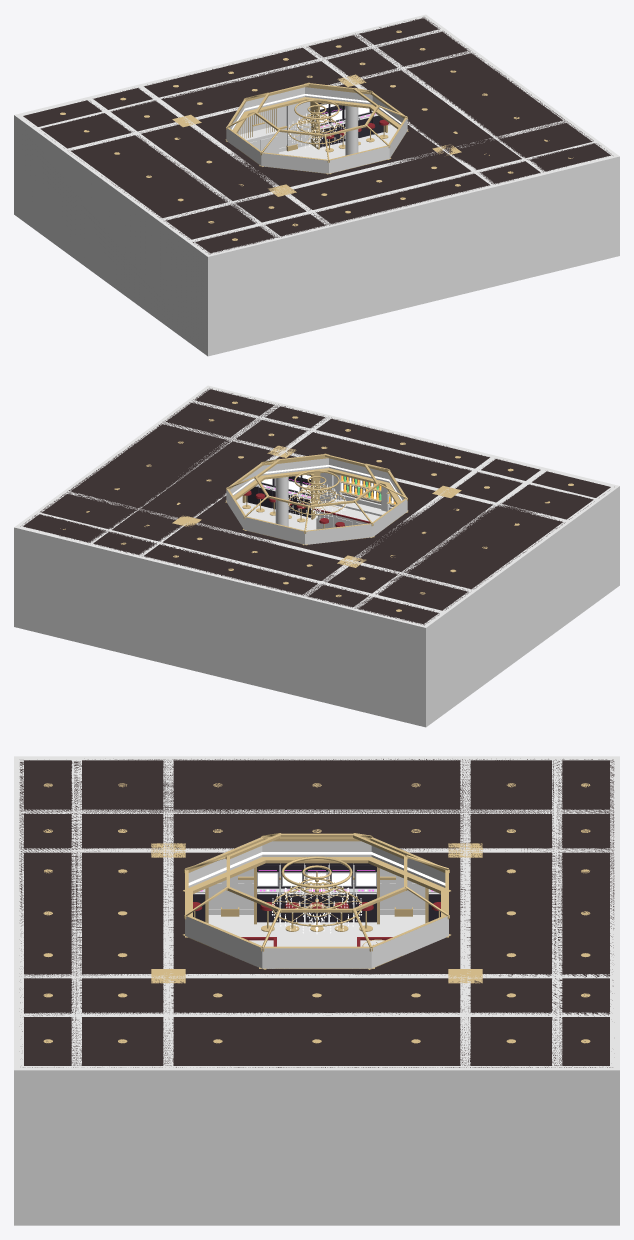
The model's file is casino-room.web.glb.
3 views of the same model, one above another, from view 1: azimuth 30°, elevation 25°; view 2: azimuth 150°, elevation 25°; view 3: azimuth 270°, elevation 25° (orthographic). The views are drawn at different scales.
Visible parts, largest first — view 1: casino-room; view 2: casino-room; view 3: casino-room.
Part boxes in pixels (<box>): casino-room: <box>14,14,619,356</box>; casino-room: <box>14,385,619,727</box>; casino-room: <box>14,756,619,1225</box>.
Bounding box in the file's own units: 65 × 19.12 × 53.
